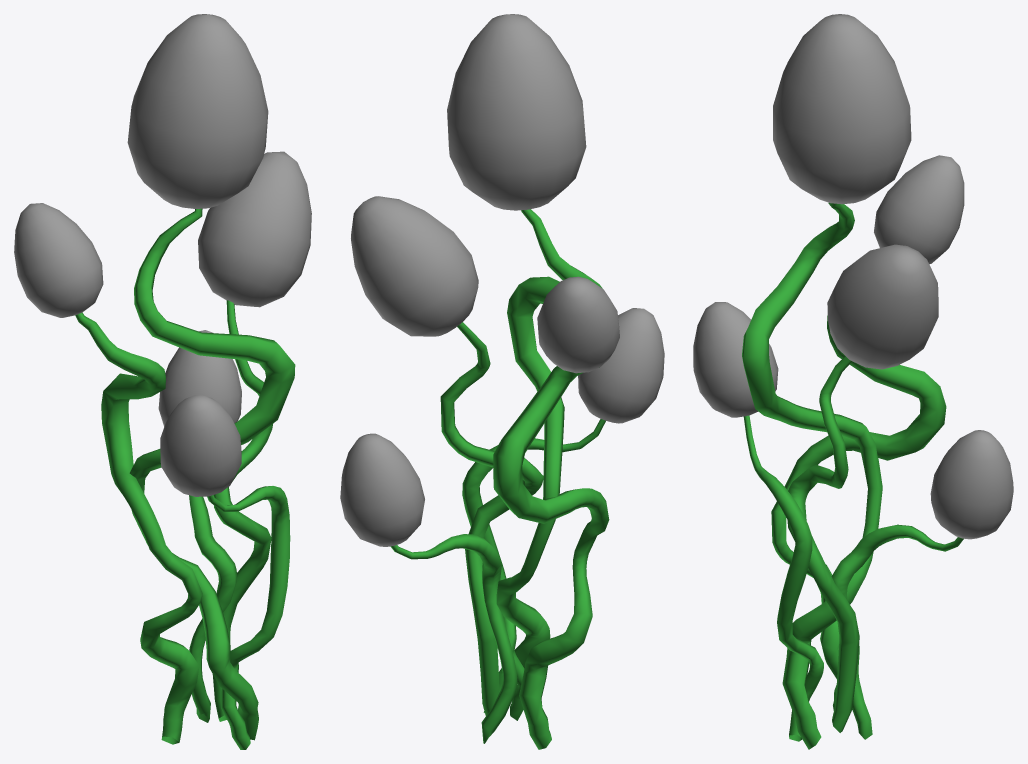
Rendered from Spaceplant_Cluster_A.fbx.
The picture shows the model from 3 angles, left to right: view 1: azimuth 30°, elevation 25°; view 2: azimuth 150°, elevation 25°; view 3: azimuth 270°, elevation 25°; orthographic projection.
Parts seen in each view (by area): view 1: Geom_Spaceplant_Cluster_A_LOD00; view 2: Geom_Spaceplant_Cluster_A_LOD00; view 3: Geom_Spaceplant_Cluster_A_LOD00.
Part boxes in pixels (<box>): Geom_Spaceplant_Cluster_A_LOD00: <box>14,14,311,749</box>; Geom_Spaceplant_Cluster_A_LOD00: <box>340,14,664,749</box>; Geom_Spaceplant_Cluster_A_LOD00: <box>693,14,1013,749</box>.
Size of what is drawn, in the model's own units: 896 by 2297 by 927.
